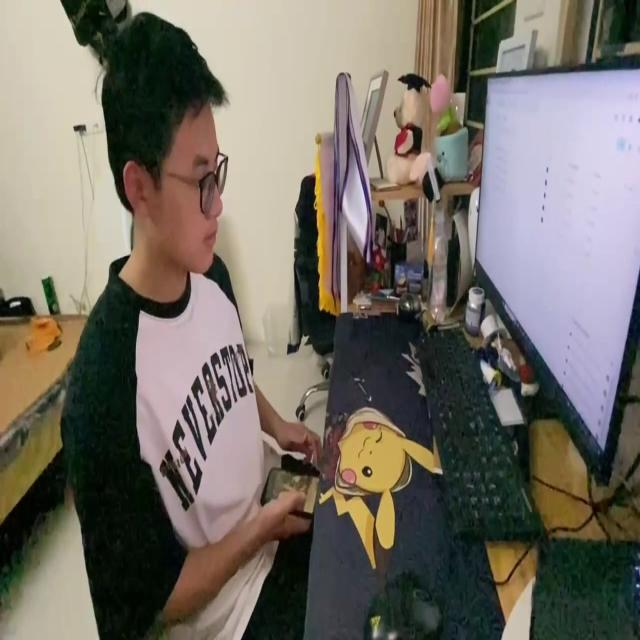laptop: (474, 53, 640, 488)
phone: (262, 458, 318, 524)
student: (58, 4, 322, 640)
